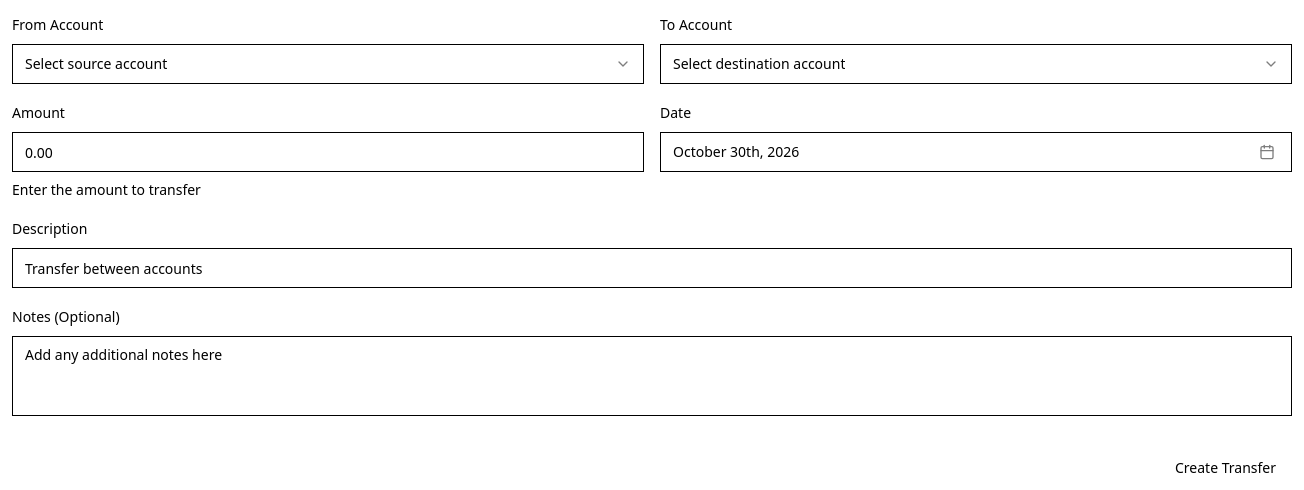
Test: TransferForm › survives picking a source account and drops it from the destination list
What coordinates should you click on to do the following:
click the dropdown labelled "Select source account"
I would click on:
 (96, 64)
Its box is [12,44,644,84].
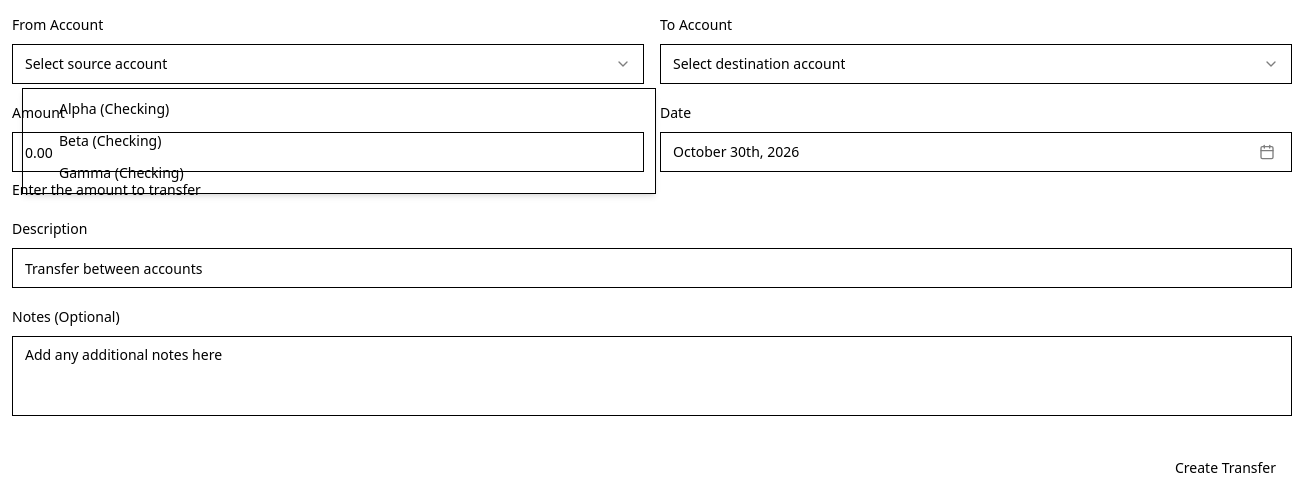
What coordinates should you click on to do the following:
click the option "Alpha (Checking)"
I would click on:
 (114, 108)
Its box is [59,99,169,118].
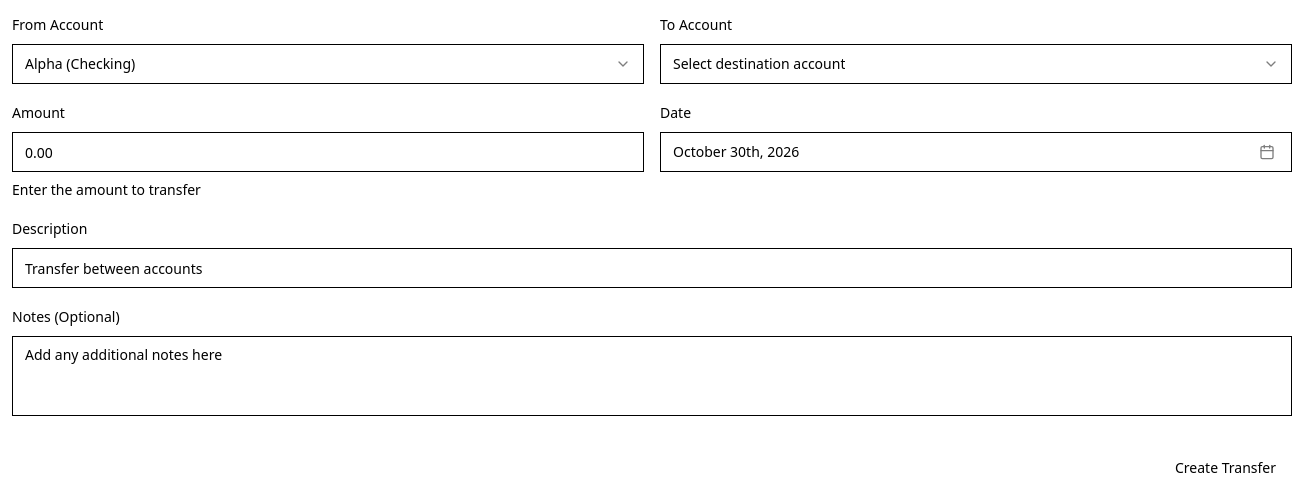
Now the dropdown labelled "Alpha (Checking)" is shown, box [12,44,644,84]
What coordinates should you click on to do the following:
click the dropdown labelled "Select destination account"
I would click on:
 (759, 64)
Its box is [660,44,1292,84].
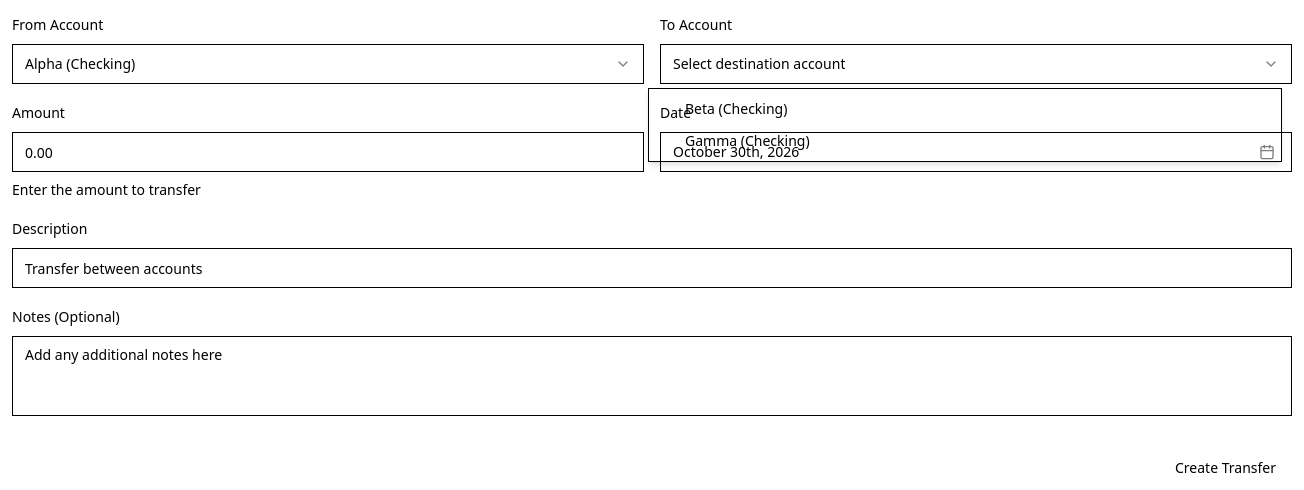
Now the number of options is 2, box [685,99,787,118]; [685,131,810,150]
